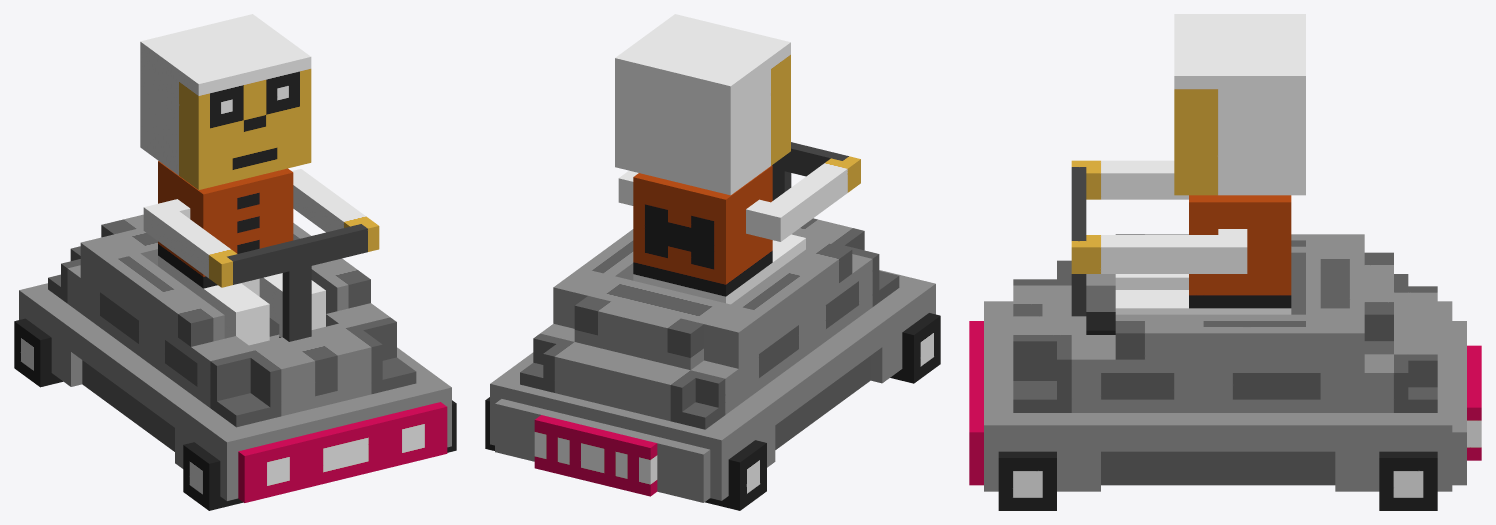
The model's file is Character_8.fbx.
3 renders of one model, left to right at view 1: azimuth 30°, elevation 25°; view 2: azimuth 150°, elevation 25°; view 3: azimuth 270°, elevation 25°, orthographic. The views are drawn at different scales.
Visible parts, largest first — view 1: Character_8; view 2: Character_8; view 3: Character_8.
Part boxes in pixels (<box>): Character_8: <box>14,14,456,510</box>; Character_8: <box>485,14,940,510</box>; Character_8: <box>969,14,1481,510</box>.
Bounding box in the file's own units: 22 × 30 × 35.
Materials: 1 (1 with a texture image).
